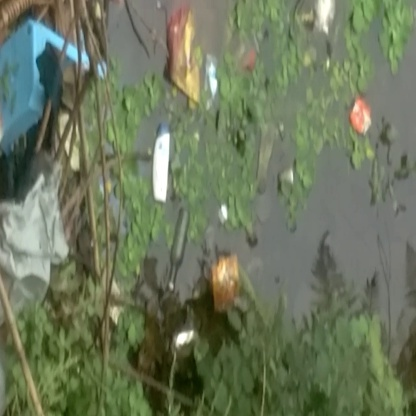bottle: (148, 121, 175, 202)
